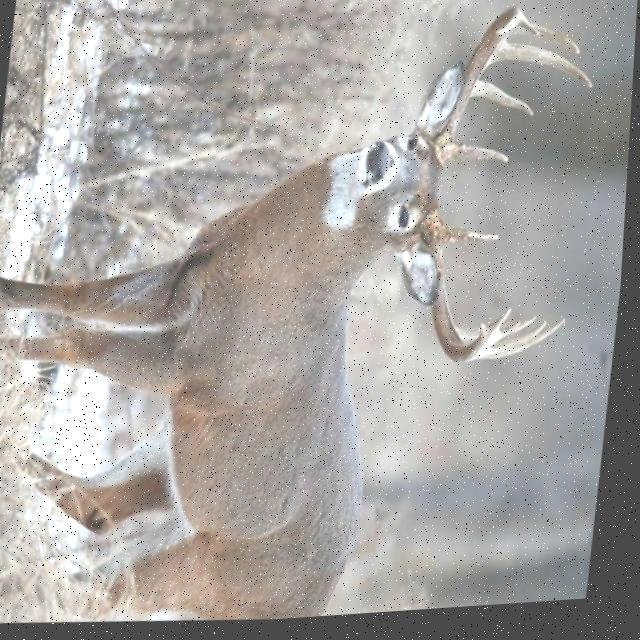E1: (485, 327, 494, 346)
L-G1: (448, 145, 512, 174)
L-G2: (471, 83, 536, 124)
L-G3: (488, 46, 596, 98)
R-F: (423, 216, 517, 369)
R-G1: (445, 227, 505, 254)
